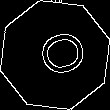O_W: (25, 27, 85, 83)
